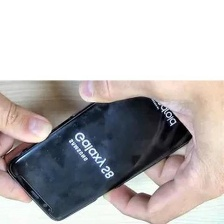phone: (2, 76, 219, 223)
